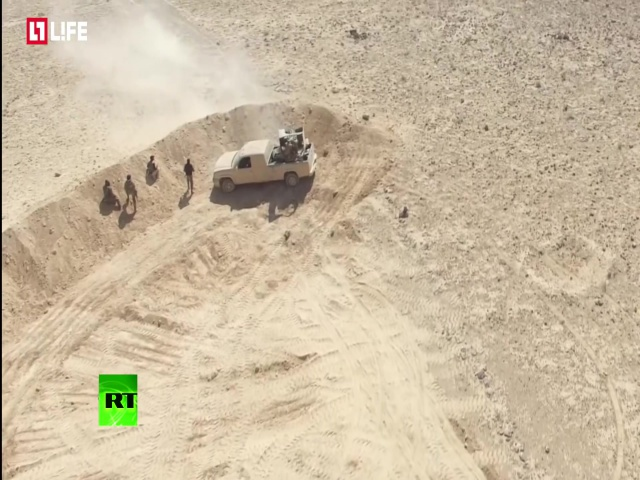person: (121, 171, 140, 214), (100, 175, 121, 210), (181, 155, 194, 198), (143, 152, 160, 182)
vehicle: (211, 135, 320, 189)
